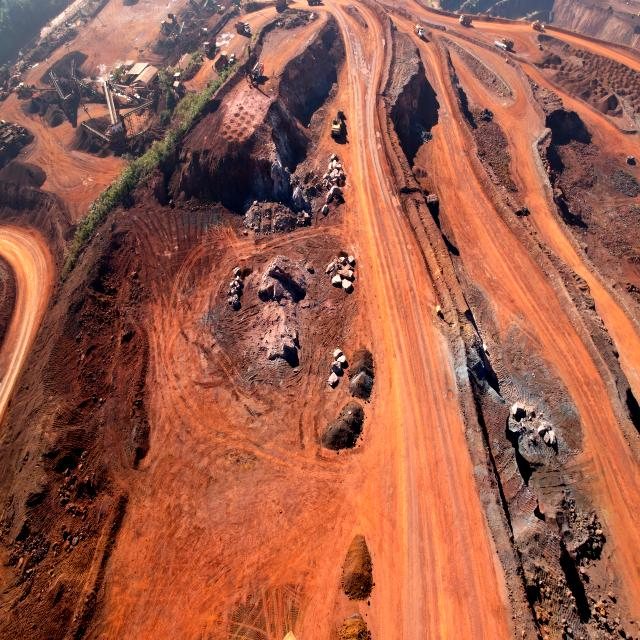Blast rig: (248, 63, 262, 85)
Dumper truck: (188, 18, 207, 35), (237, 22, 250, 35), (499, 38, 514, 48), (203, 41, 214, 54), (160, 20, 173, 31), (414, 24, 424, 37), (167, 71, 180, 81), (276, 0, 290, 9), (460, 16, 472, 26), (533, 22, 544, 31)
Excavator: (331, 109, 345, 137), (212, 4, 225, 15)
